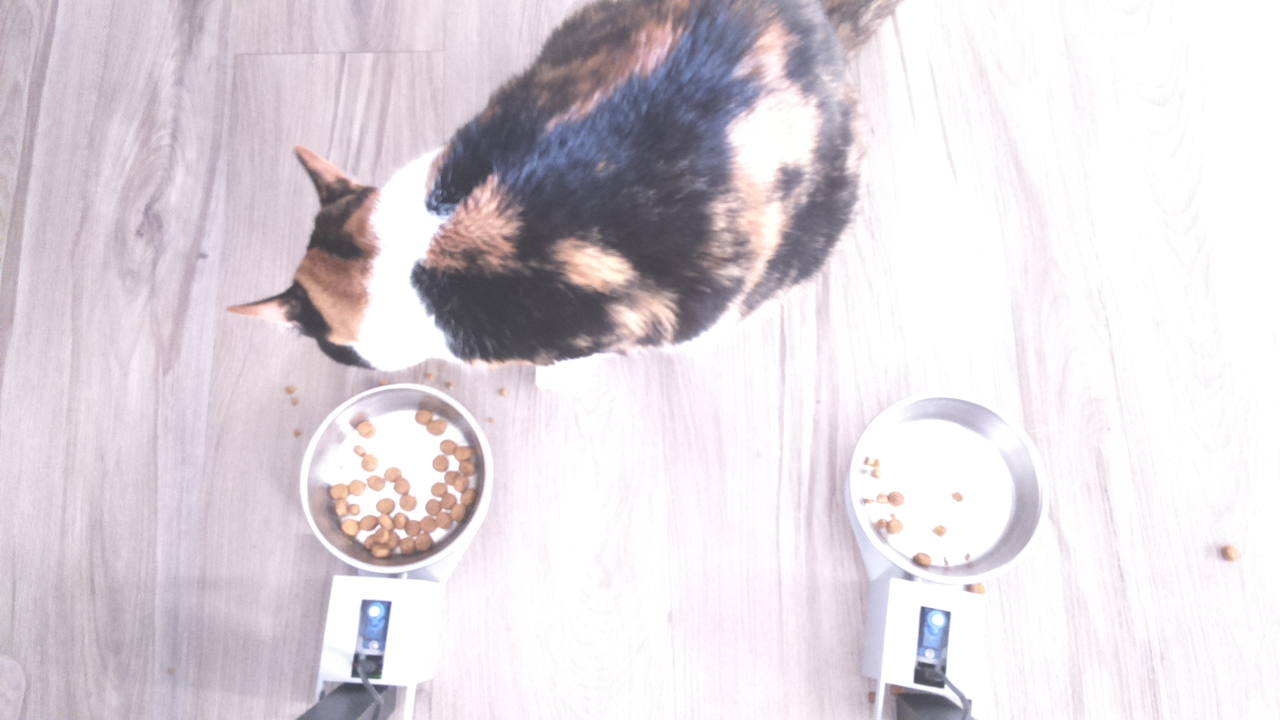bella: (213, 133, 459, 379)
open_bowl: (845, 386, 1050, 586), (295, 375, 492, 576)
